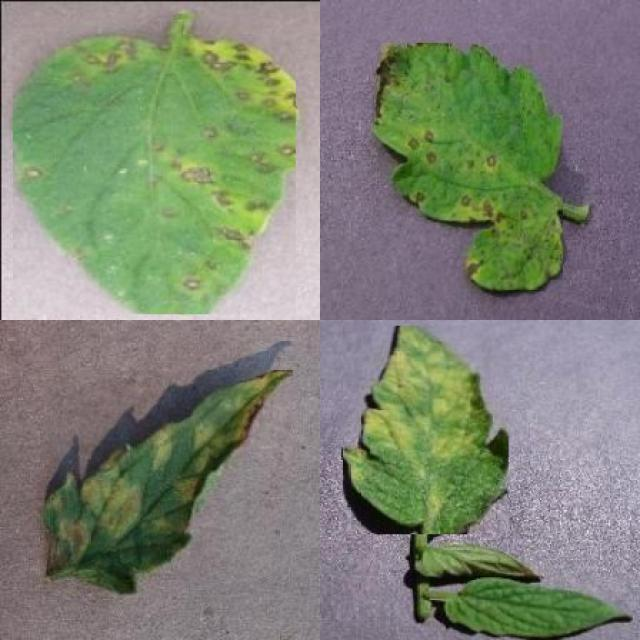Healthy: (446, 578, 633, 640)
Leaf Mold: (45, 371, 294, 596), (342, 325, 509, 535)
Septoria: (13, 35, 296, 314), (371, 42, 563, 292)
